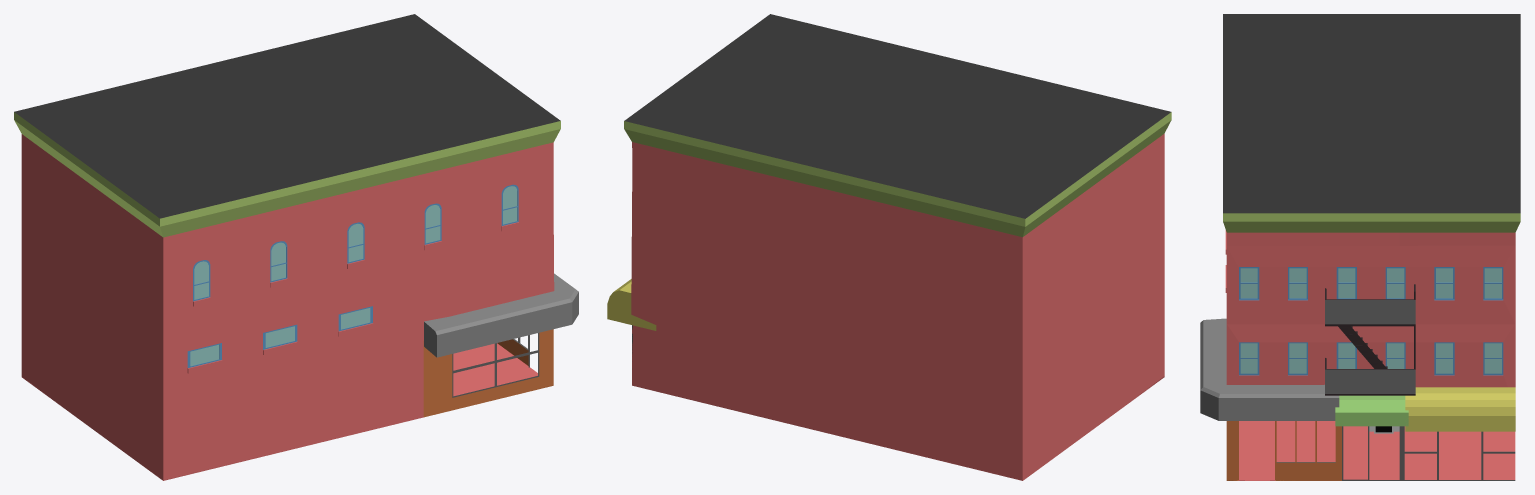
The model's file is bldg2.fbx.
3 renders of one model, left to right at view 1: azimuth 30°, elevation 25°; view 2: azimuth 150°, elevation 25°; view 3: azimuth 270°, elevation 25°, orthographic.
Visible parts, largest first — view 1: Cube.001; view 2: Cube.001; view 3: Cube.001.
Boxes of the visible parts, <box> form: Cube.001: <box>14,14,578,480</box>; Cube.001: <box>607,14,1171,480</box>; Cube.001: <box>1200,14,1520,480</box>.
Bounding box in the file's own units: 2578 × 1551 × 1667.
